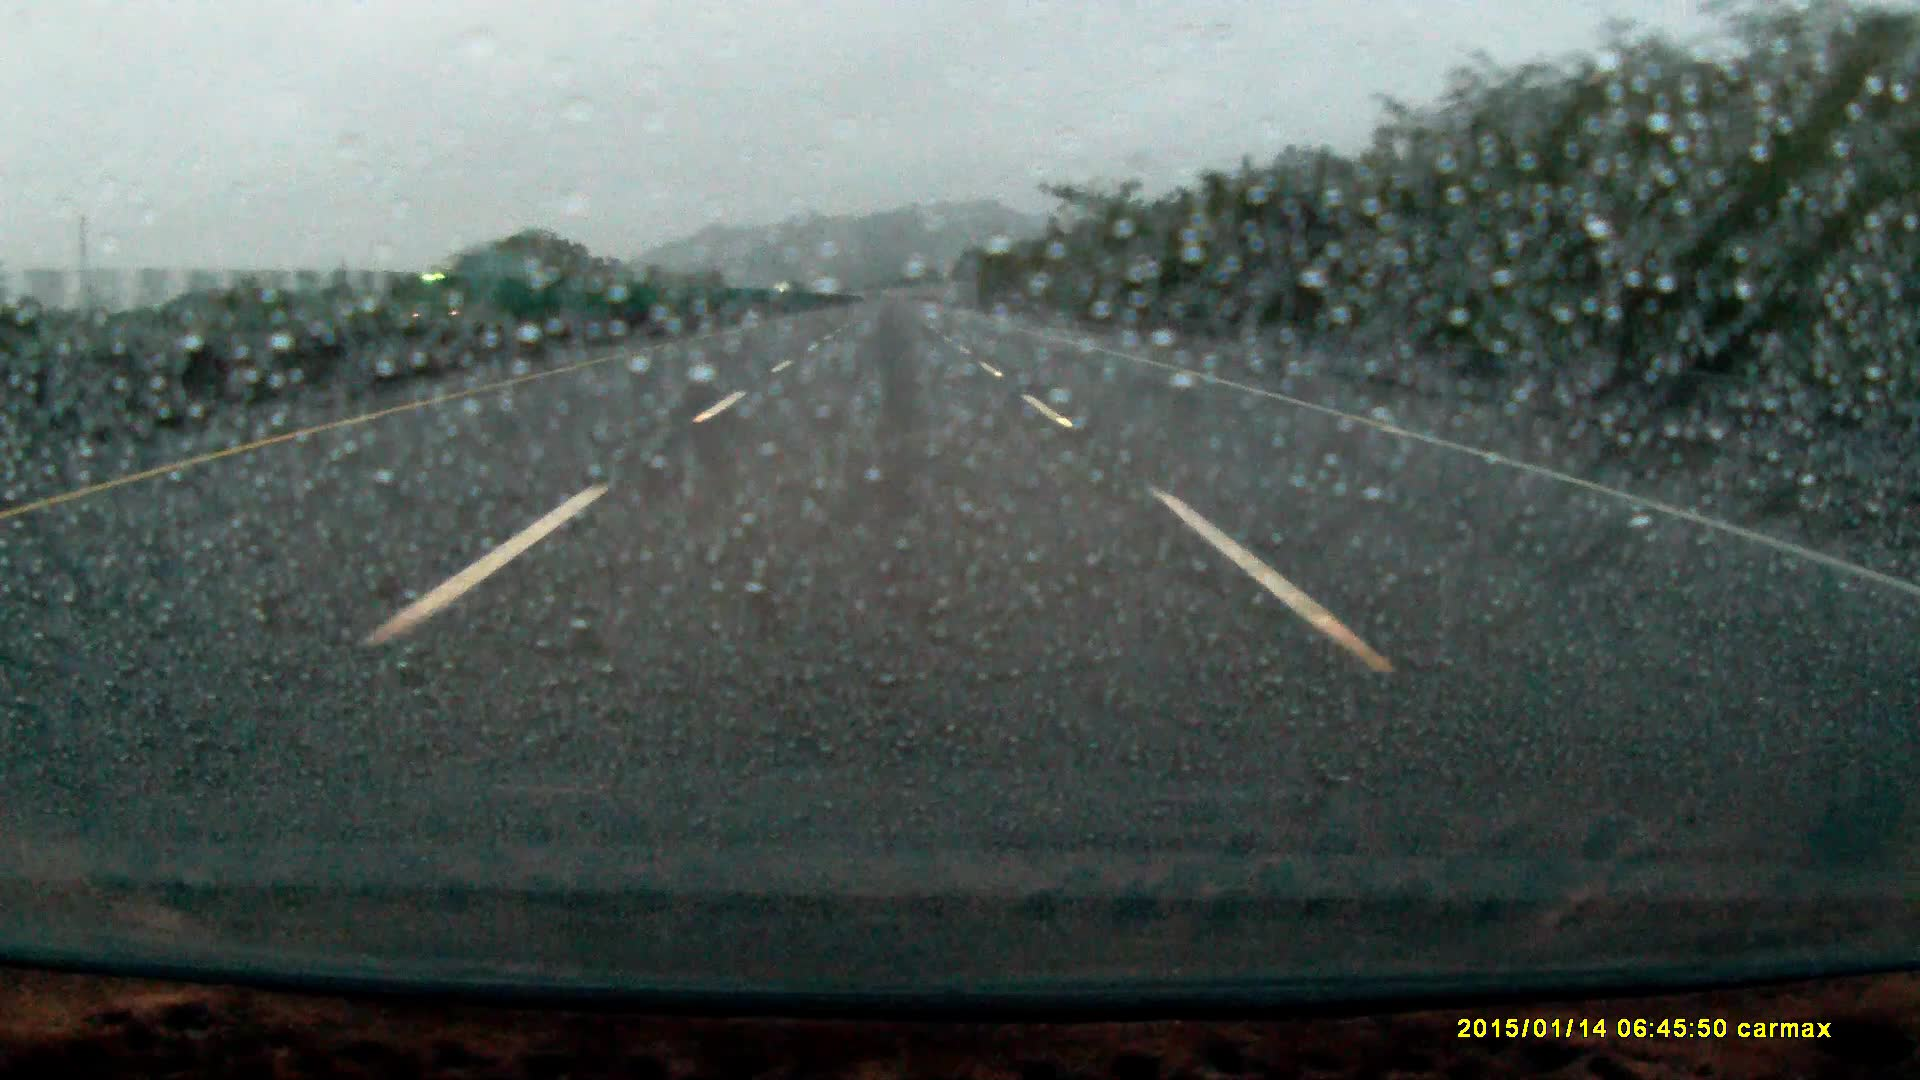vehicle: (400, 257, 542, 340)
